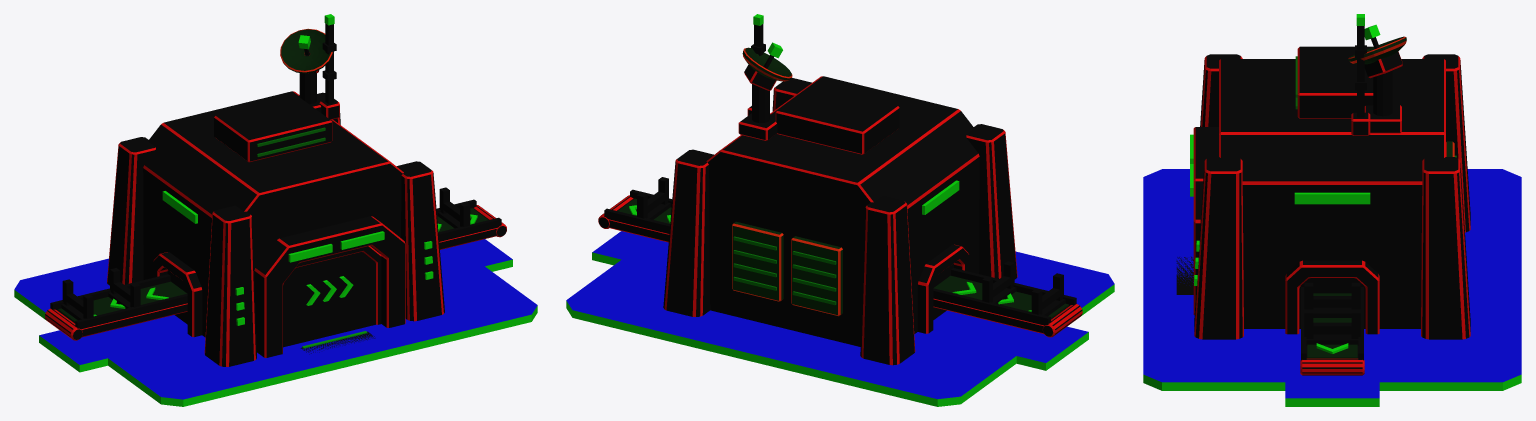
File: SM_Holo_LogisticsHub_T1.fbx
The picture shows the model from 3 angles, left to right: view 1: azimuth 30°, elevation 25°; view 2: azimuth 150°, elevation 25°; view 3: azimuth 270°, elevation 25°; orthographic projection. The views are drawn at different scales.
Visible parts, largest first — view 1: SM_Holo_LogisticsHub_T1; view 2: SM_Holo_LogisticsHub_T1; view 3: SM_Holo_LogisticsHub_T1.
Part boxes in pixels (<box>): SM_Holo_LogisticsHub_T1: <box>14,14,537,406</box>; SM_Holo_LogisticsHub_T1: <box>566,14,1114,406</box>; SM_Holo_LogisticsHub_T1: <box>1143,14,1521,406</box>.
Size of the model in its own units: 18.52 by 10.72 by 12.
